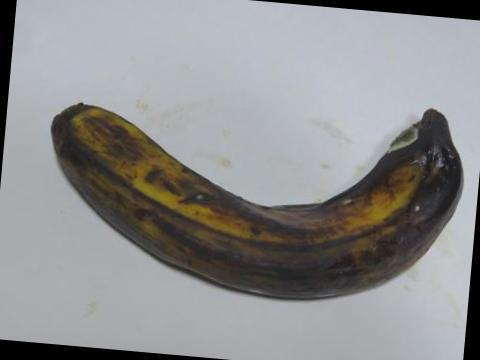rotten: (56, 94, 471, 312)
